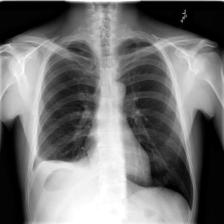normal: (33, 32, 197, 209)
